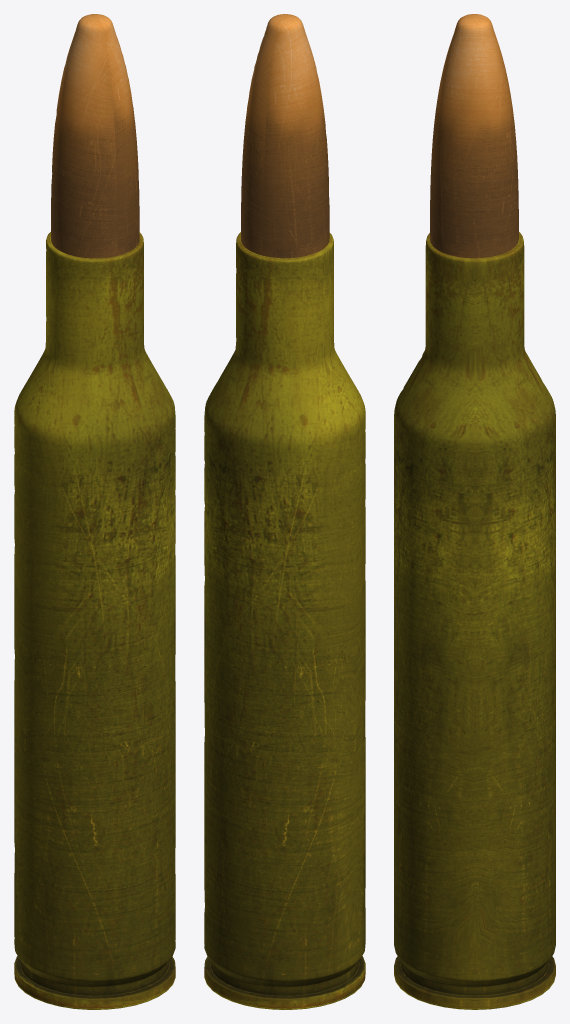
File: AR Bullet.obj
3 renders of one model, left to right at view 1: azimuth 30°, elevation 25°; view 2: azimuth 150°, elevation 25°; view 3: azimuth 270°, elevation 25°, orthographic.
Visible parts, largest first — view 1: Shell, Bullet; view 2: Shell, Bullet; view 3: Shell, Bullet.
Part boxes in pixels (x1,y1,x2,y2): Shell: [14, 232, 175, 1009]; Bullet: [51, 14, 139, 258]; Shell: [204, 232, 365, 1009]; Bullet: [241, 14, 329, 258]; Shell: [394, 232, 555, 1009]; Bullet: [430, 14, 518, 258].
Size of the model in its own units: 1.07 by 7.02 by 1.07.
1 material, 1 textured.
